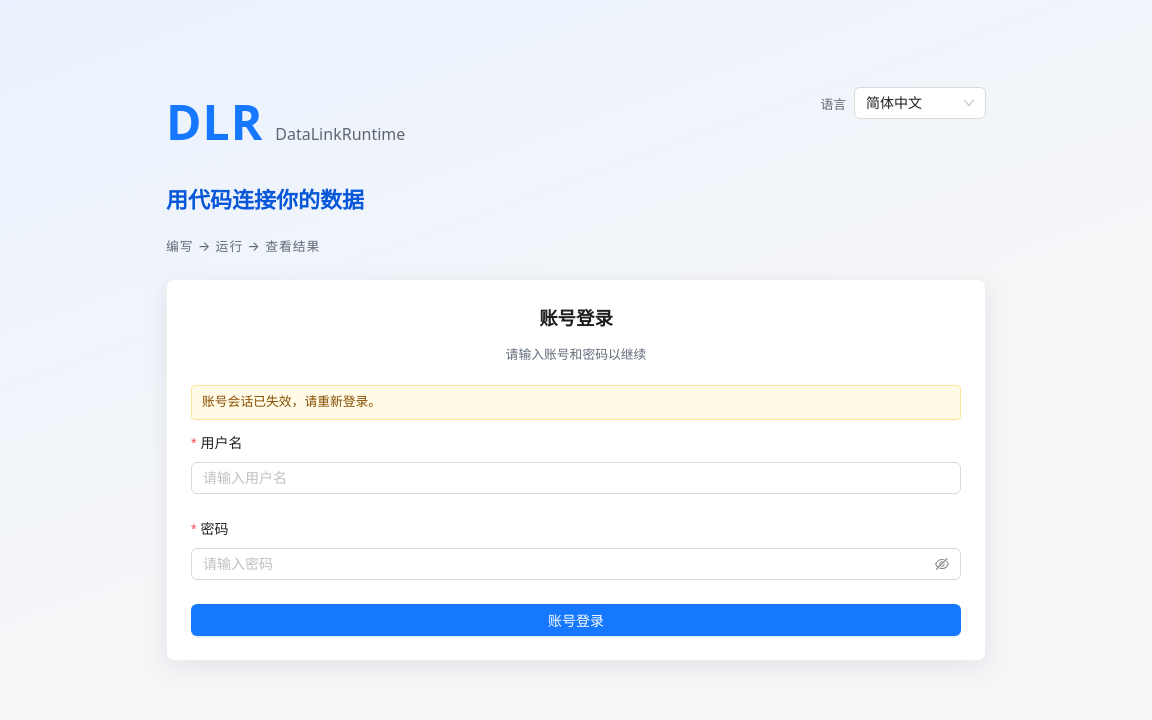
Test: Issue 212 translates an existing session notice when the login language changes
This screenshot has width=1152, height=720.
Expected: the text with test id "account-auth-notice" shows "账号会话已失效", x1=202 y1=394 x2=381 y2=410
Press the mouse on the element showing "简体中文": x=920, y=103 x1=854 y1=87 x2=986 y2=119
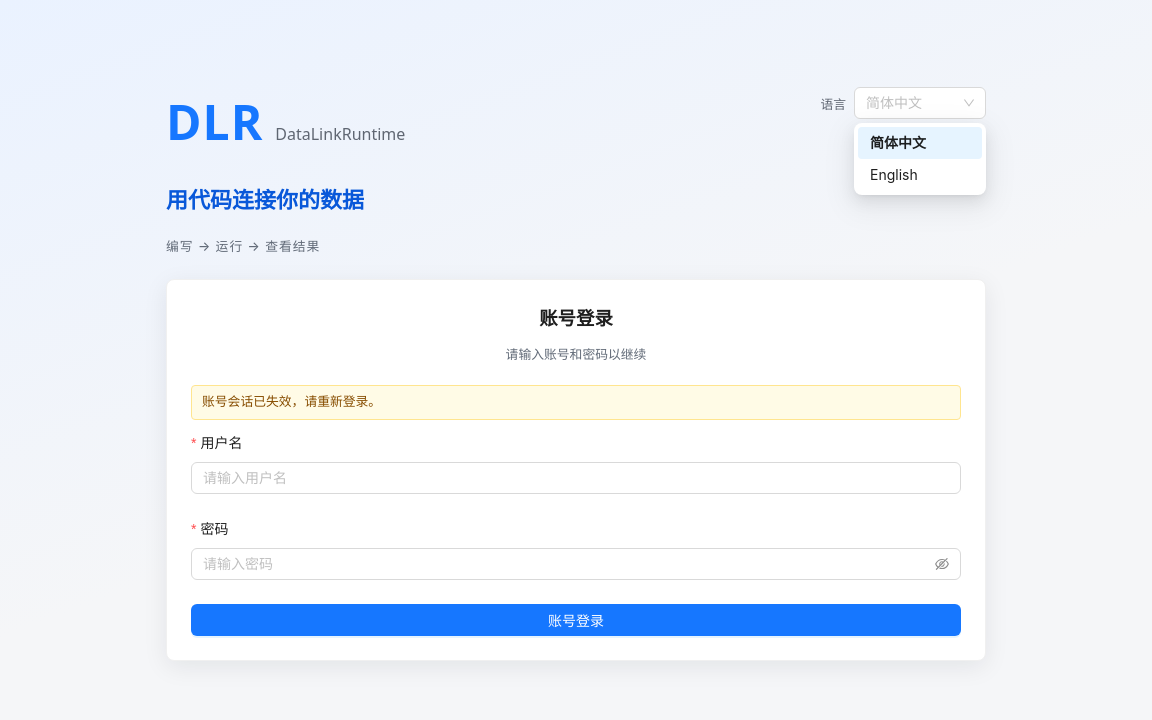
Click the text "English": x=894, y=174 x1=870 y1=166 x2=918 y2=183
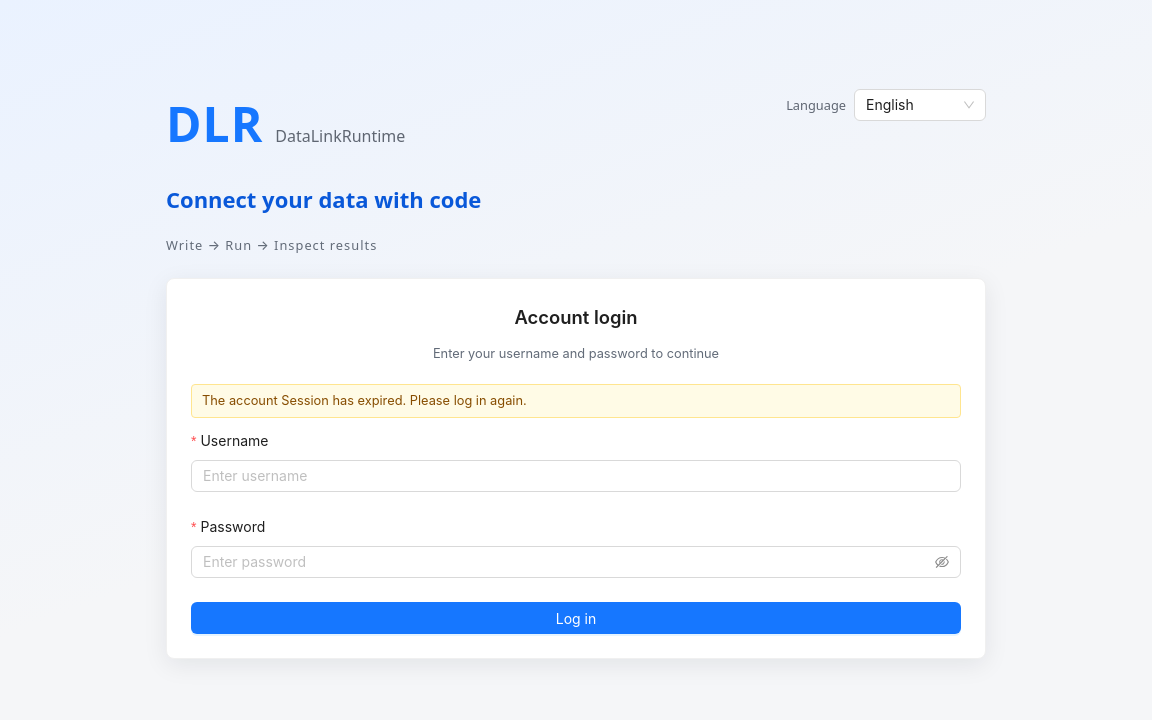
Expected: the text with test id "account-auth-notice" shows "expired", x1=202 y1=393 x2=527 y2=408
Expected: the heading "Account login" is shown, x1=514 y1=306 x2=638 y2=328
